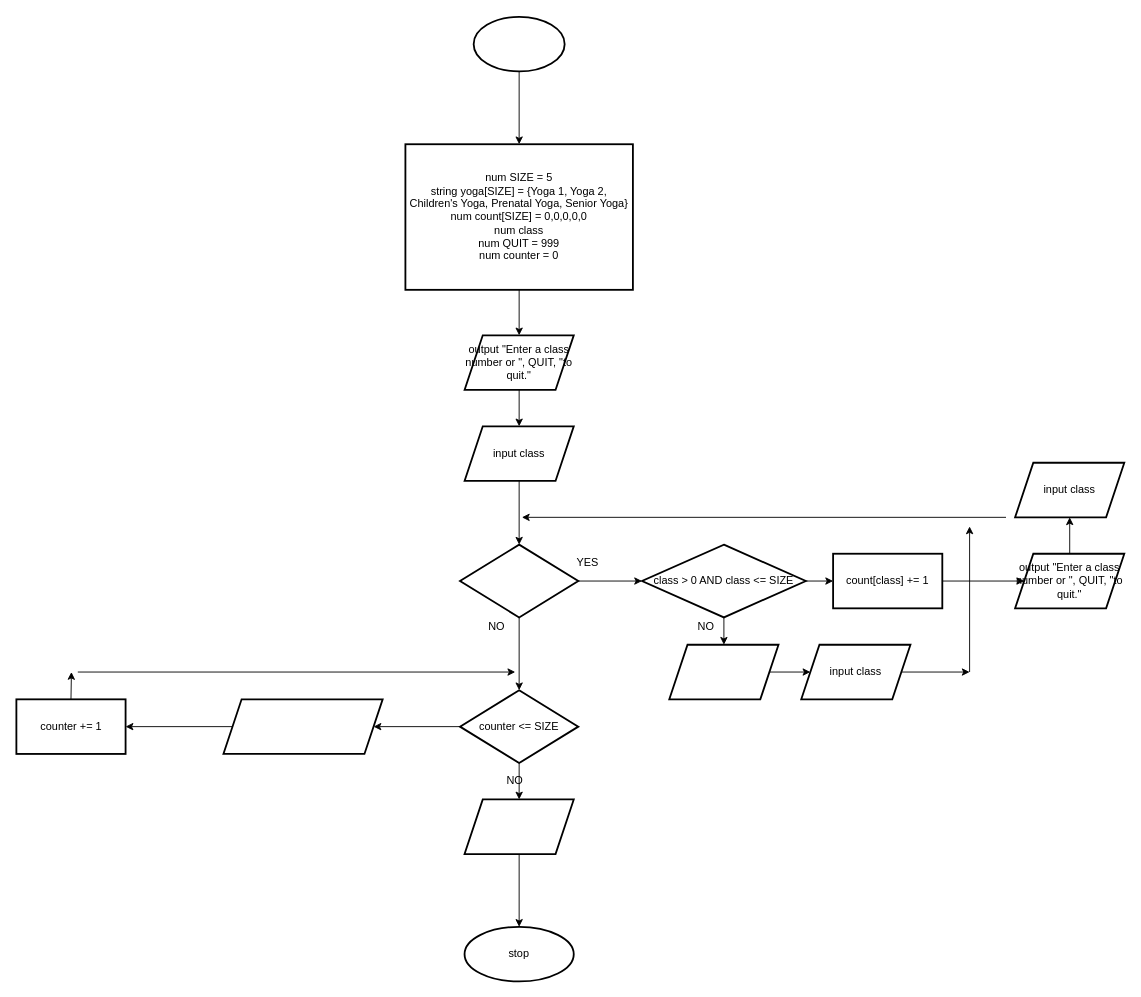
Image size: 1141x997. Some labels were removed from this diagram. Each missing label, with the centre of its shape:
class <> QUIT: (x=519, y=580)
output "End of Program": (x=518, y=826)
output "Enter a valid class number": (x=723, y=671)
output yoga[counter], "requested ", count[counter], "times.": (x=302, y=726)
start: (x=518, y=43)
